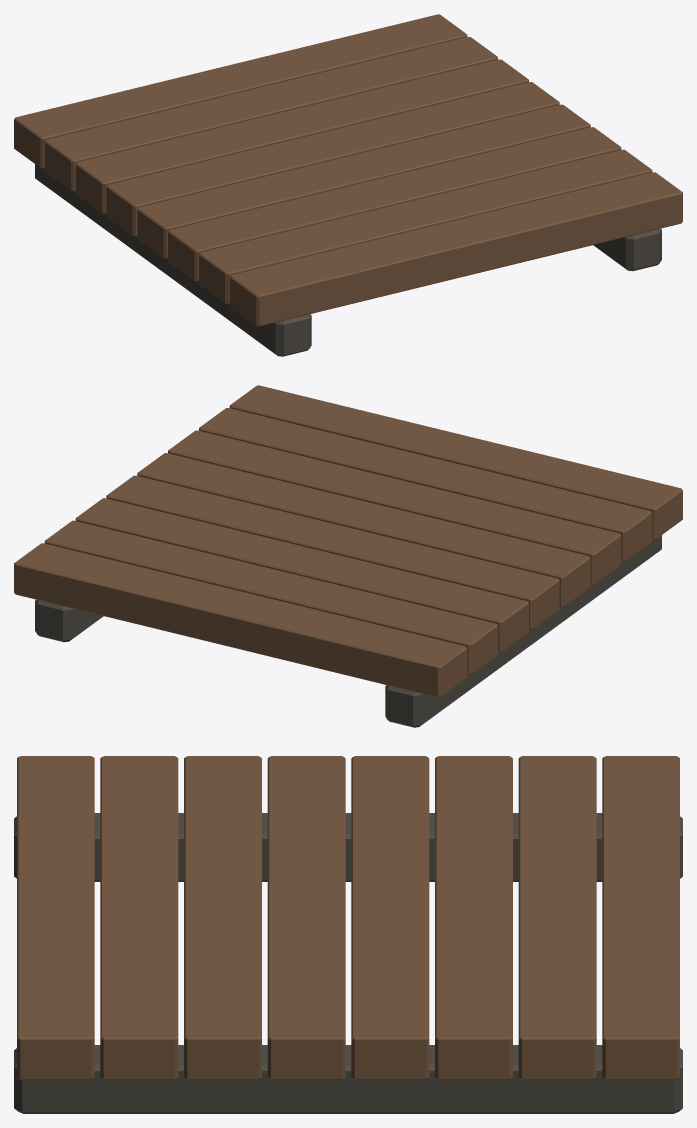
The model's file is floor-deck.glb.
The picture shows the model from 3 angles, top to bottom: view 1: azimuth 30°, elevation 25°; view 2: azimuth 150°, elevation 25°; view 3: azimuth 270°, elevation 25°; orthographic projection. The views are drawn at different scales.
Parts seen in each view (by area): view 1: floor-deck__body; view 2: floor-deck__body; view 3: floor-deck__body.
Part boxes in pixels (x1,y1,x2,y2): floor-deck__body: (14, 14, 682, 356); floor-deck__body: (14, 385, 682, 727); floor-deck__body: (14, 756, 682, 1113).
Bounding box in the file's own units: 2 × 0.3 × 2.
